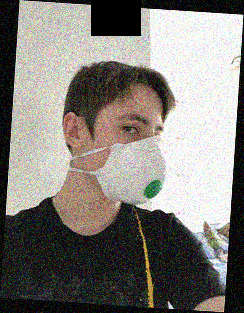with_mask: (102, 98, 169, 205)
